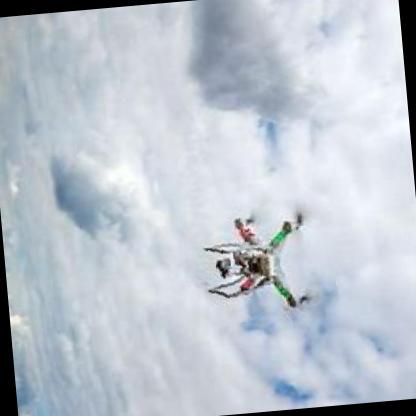drone: (190, 198, 337, 326)
